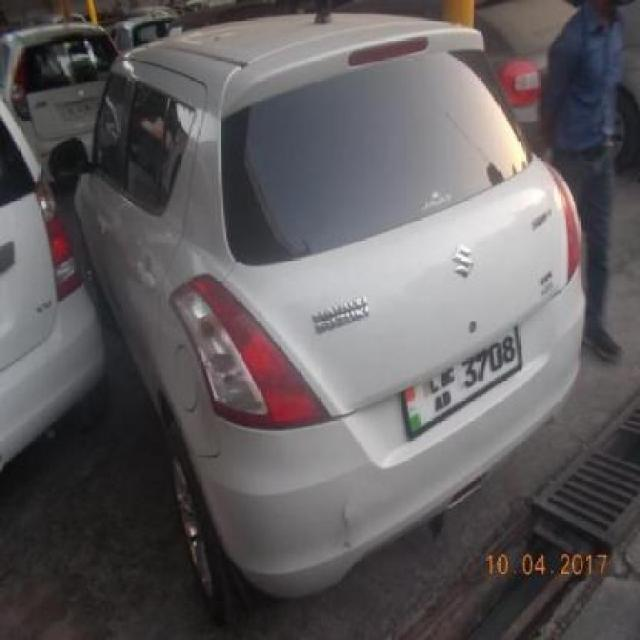damage: (335, 496, 352, 548)
